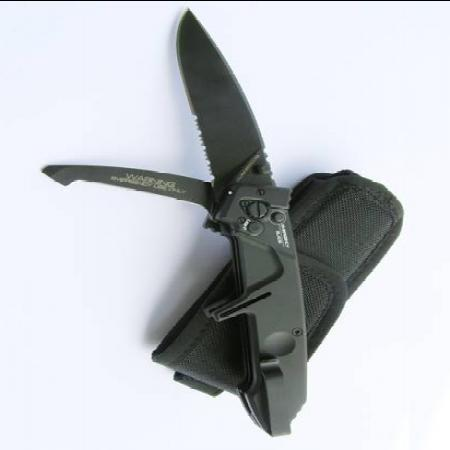long weapon: (169, 2, 295, 194)
